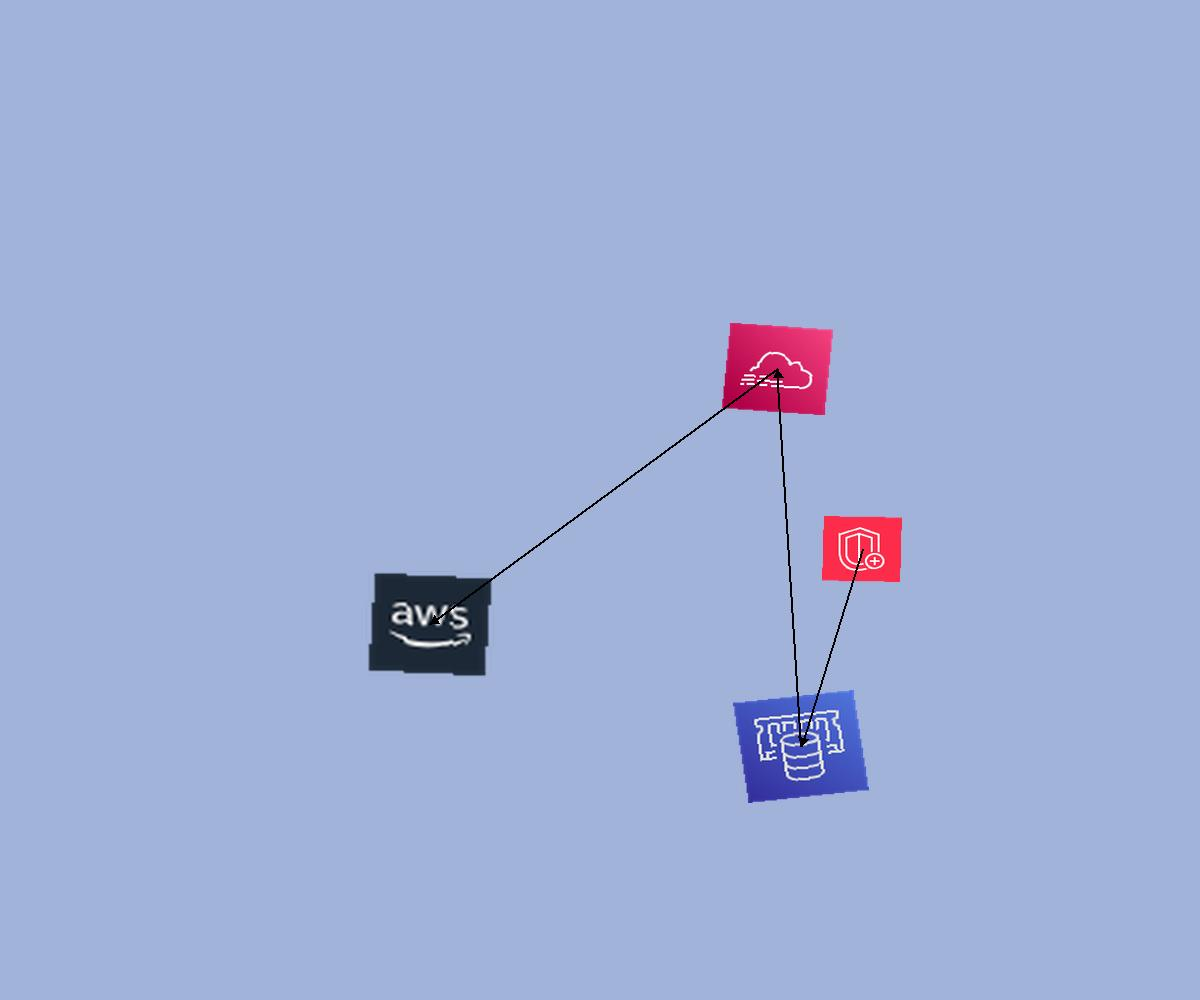AWS-Cloud-logo: (366, 571, 494, 678)
AWS-CloudTrail: (721, 322, 834, 416)
AWS-ElastiCache: (733, 690, 869, 803)
AWS-Shield: (822, 516, 902, 582)
